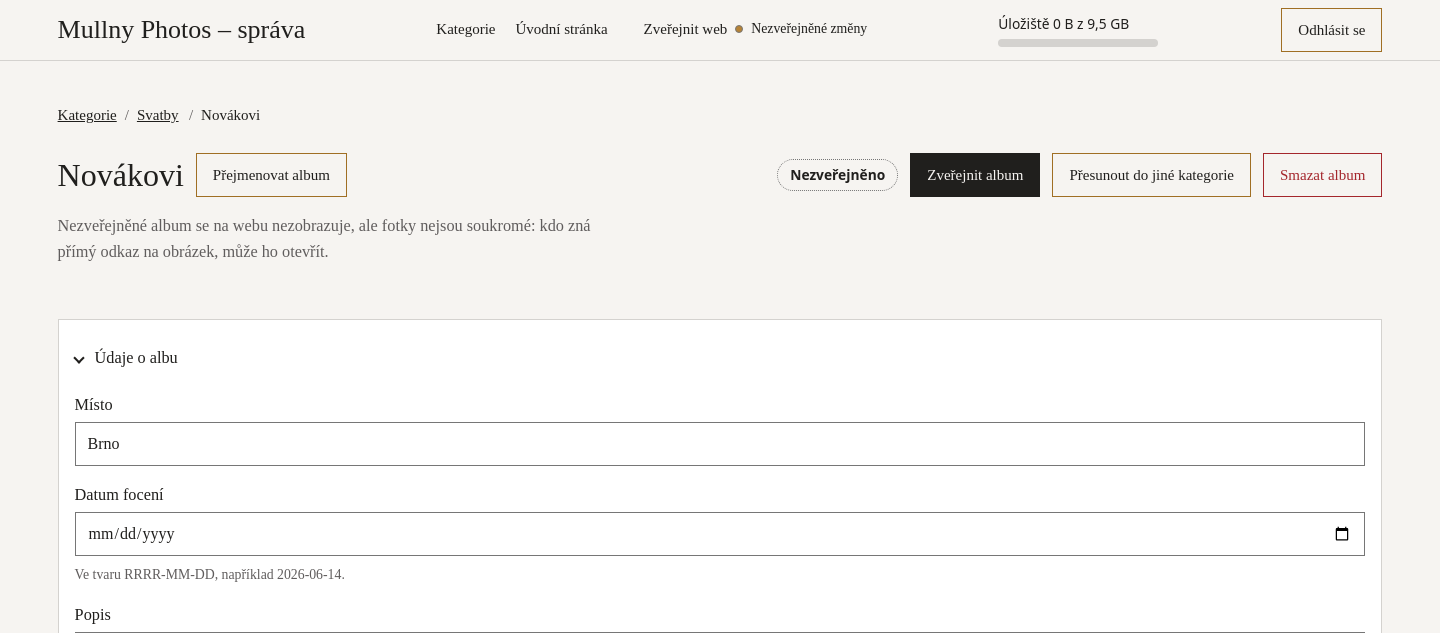
Test: screen › an album without photos cannot be published
Expected: the heading "Novákovi" is shown, [58,156,184,194]
Expected: the field labelled "Místo" is shown, [75,422,1365,466]
Click the button "Zveřejnit album" at (975, 175), box [910,153,1040,197]
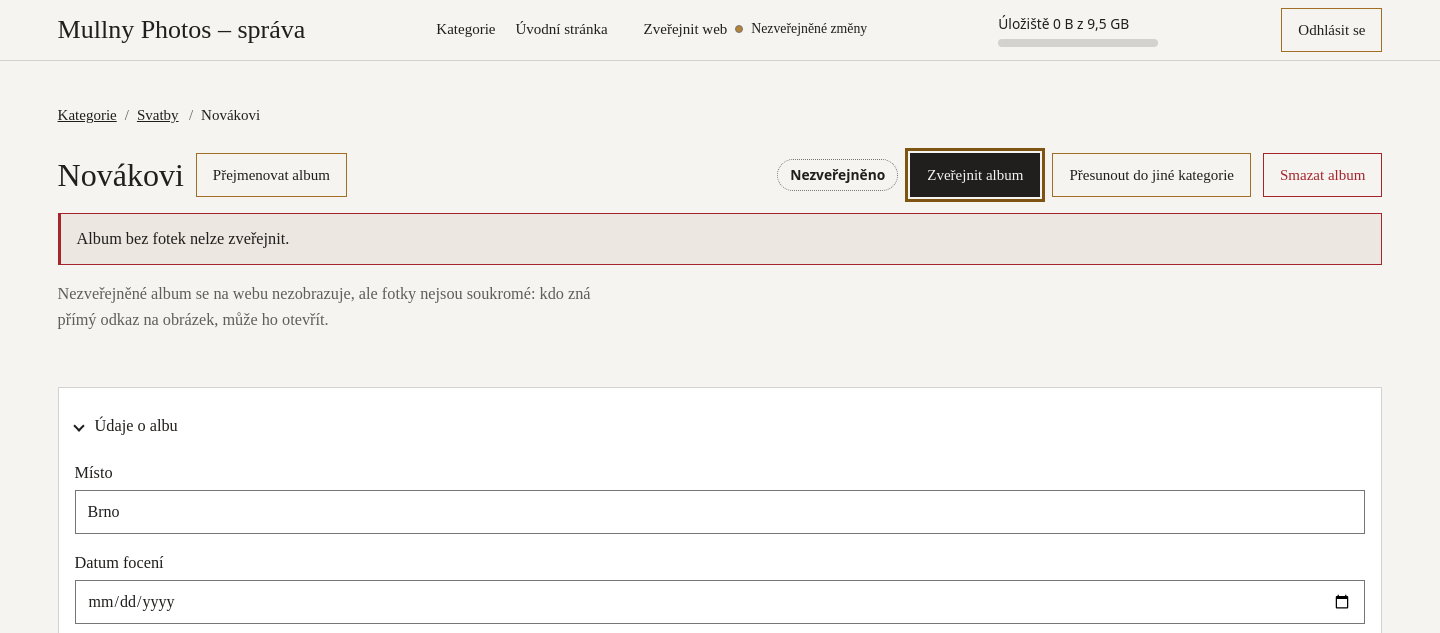
Now the message "Album bez fotek nelze zveřejnit." is shown, box [58,213,1382,265]
